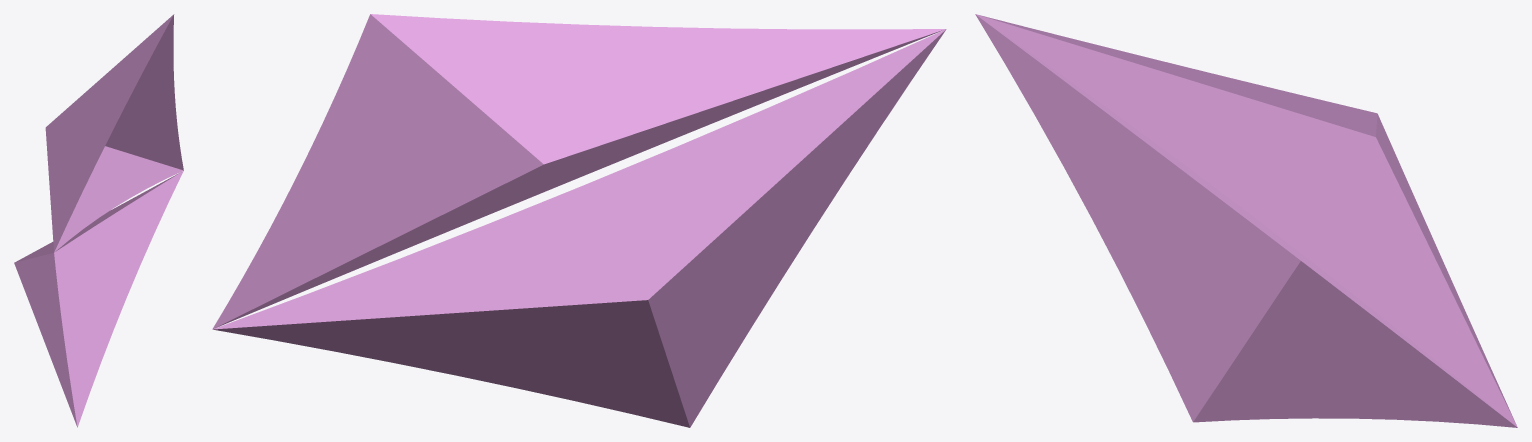
Rendered from TYPE4-1.glb.
3 renders of one model, left to right at view 1: azimuth 30°, elevation 25°; view 2: azimuth 150°, elevation 25°; view 3: azimuth 270°, elevation 25°, orthographic. The views are drawn at different scales.
Parts seen in each view (by area): view 1: TYPE4-1 (×6); view 2: TYPE4-1 (×6); view 3: TYPE4-1 (×6).
Boxes of the visible parts, <box> form: TYPE4-1 (×6): <box>14,14,183,427</box>; TYPE4-1 (×6): <box>212,14,946,427</box>; TYPE4-1 (×6): <box>975,14,1517,427</box>.
Bounding box in the file's own units: 6.26 × 5.65 × 6.7.
